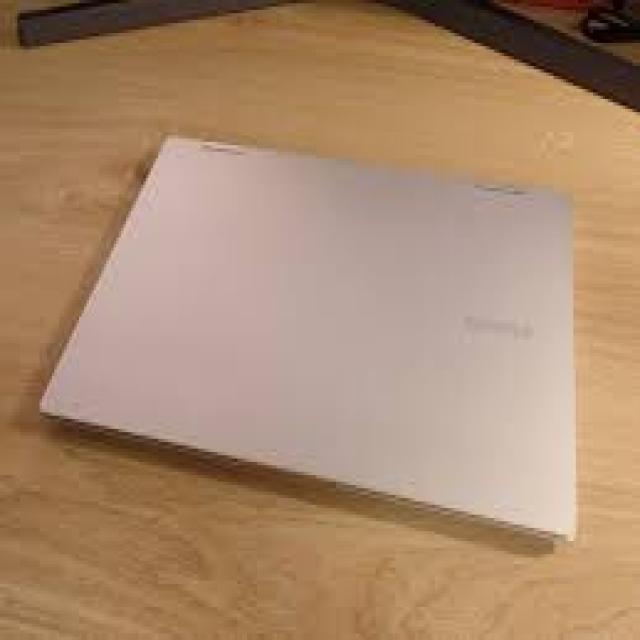laptop: (37, 129, 578, 544)
